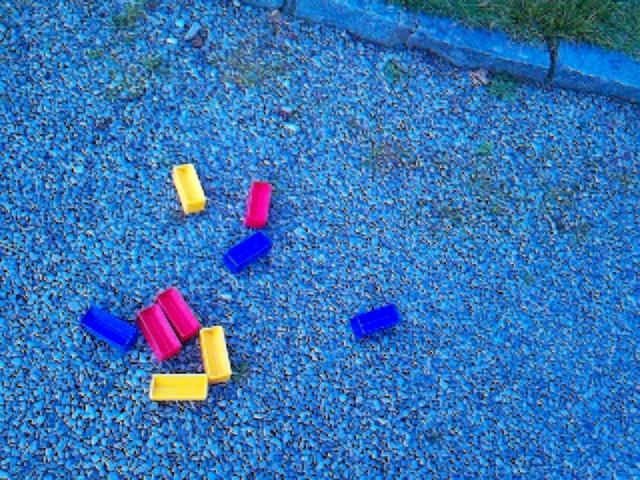blue: (80, 306, 140, 353), (223, 231, 273, 275), (350, 304, 402, 341)
red: (137, 304, 183, 362), (156, 287, 201, 342), (244, 181, 272, 229)
yellow: (199, 325, 233, 384), (172, 163, 207, 215), (149, 373, 209, 402)
